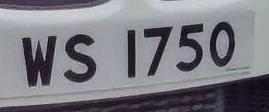0: (206, 17, 241, 74)
1: (117, 22, 145, 84)
5: (174, 18, 206, 79)
7: (138, 21, 175, 80)
S: (61, 27, 104, 89)
W: (15, 29, 63, 93)
